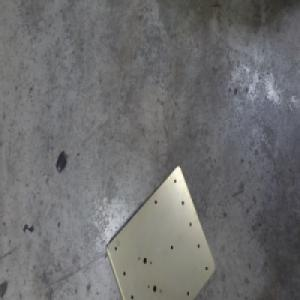MetalSheet: (103, 162, 216, 300)
